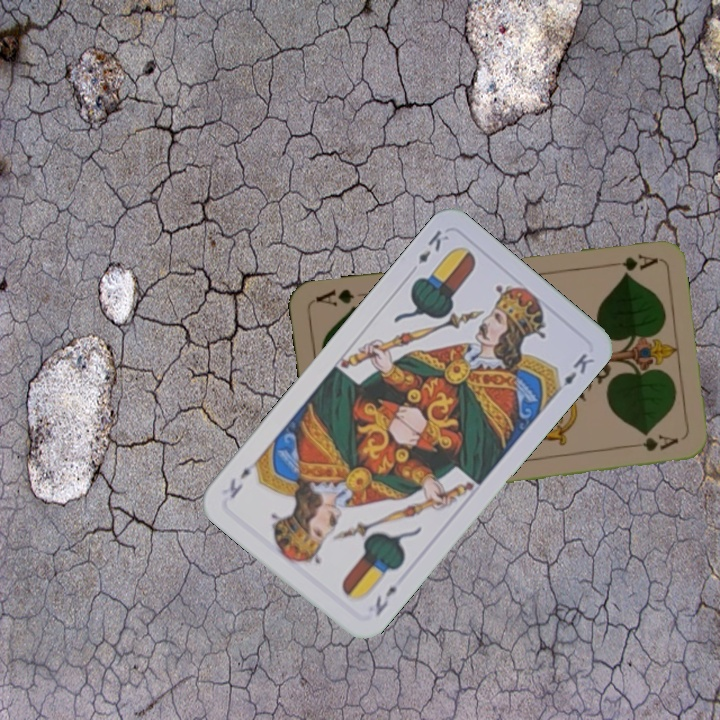EK: (413, 226, 452, 267), (371, 581, 400, 619)
GA: (600, 250, 660, 273)
